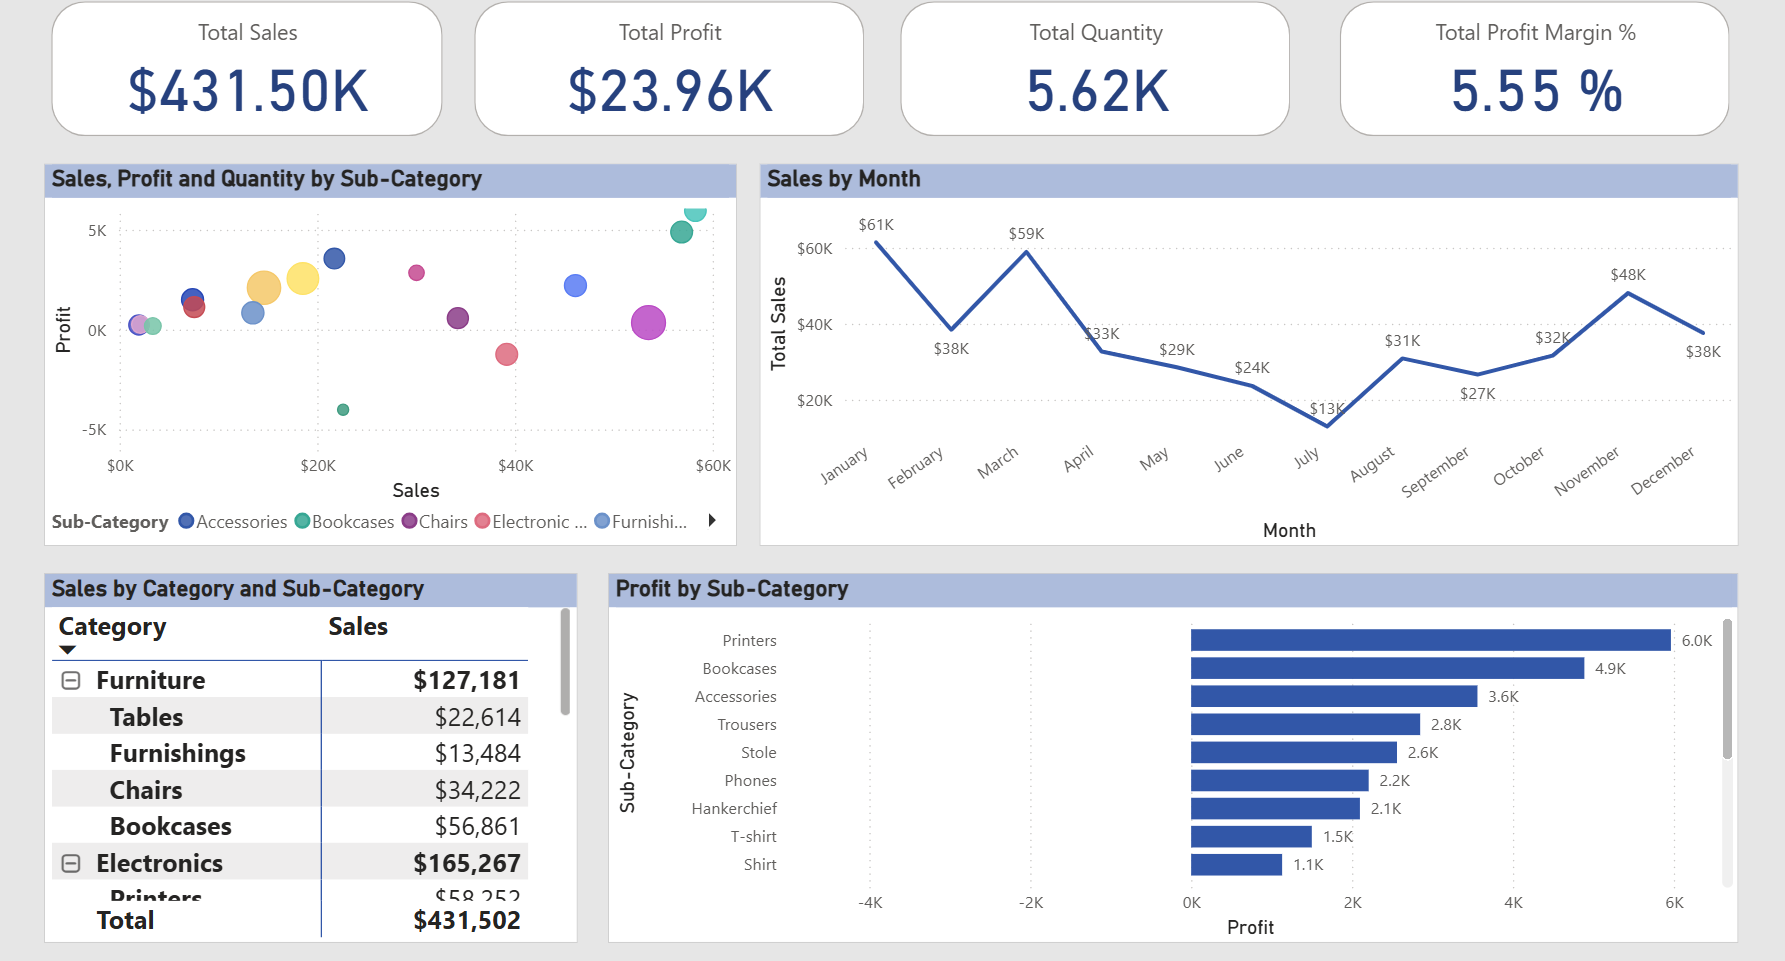

The dashboard page shown, as its layout file describes it:
{"tool":"powerbi","page":{"name":"Sales & Profit Analysis","canvas":[1280,720],"ordinal":1},"visuals":[{"type":"scatterChart","title":"Sales, Profit and Quantity by Sub-Category","fields":{"X":["fact_sales.Total Sales"],"Y":["fact_sales.Total Profit"],"Size":["Sum(fact_sales.Quantity)"],"Series":["dim_product.SubCategory"]},"box":[10.6,125.7,513.3,283.2],"z":0},{"type":"pivotTable","title":"Sales by Category and Sub-Category","fields":{"Values":["fact_sales.Total Sales"],"Rows":["dim_product.Category","dim_product.SubCategory"]},"box":[10.6,428.5,395.2,274.1],"z":1000},{"type":"clusteredBarChart","title":"Profit by Sub-Category","fields":{"Y":["fact_sales.Total Profit"],"Category":["dim_product.SubCategory"]},"box":[428.5,428.5,837.4,274.1],"z":2000},{"type":"lineChart","title":"Sales by Month","fields":{"Y":["fact_sales.Total Sales"],"Category":["dim_date.MonthName"]},"box":[540.6,125.7,725.3,283.2],"z":3000},{"type":"cardVisual","fields":{"Data":["fact_sales.Total Sales"]},"box":[10.6,0,300,110],"z":4000},{"type":"cardVisual","fields":{"Data":["Sum(fact_sales.Profit)"]},"box":[324,0,299.8,110.5],"z":5000},{"type":"cardVisual","fields":{"Data":["Sum(fact_sales.Quantity)"]},"box":[640.5,0,299.8,110.5],"z":6000},{"type":"cardVisual","fields":{"Data":["fact_sales.Profit Margin %"]},"box":[966.1,0,299.8,110.5],"z":7000}]}

Visuals, with their boxes on the page's 1280x720 design canvas (x1, y1, x2, y2). These are canvas units, not pixel positions in the 1785x961 screenshot, which may show the page scaled, cropped or inside an application window:
"Sales, Profit and Quantity by Sub-Category" scatterChart: 11, 126, 524, 409
"Sales by Category and Sub-Category" pivotTable: 11, 428, 406, 703
"Profit by Sub-Category" clusteredBarChart: 428, 428, 1266, 703
"Sales by Month" lineChart: 541, 126, 1266, 409
cardVisual - fact_sales.Total Sales: 11, 0, 311, 110
cardVisual - Sum(fact_sales.Profit): 324, 0, 624, 110
cardVisual - Sum(fact_sales.Quantity): 640, 0, 940, 110
cardVisual - fact_sales.Profit Margin %: 966, 0, 1266, 110
